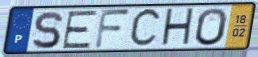C: (127, 6, 163, 50)
E: (60, 9, 99, 50)
F: (93, 8, 132, 51)
H: (159, 7, 196, 49)
O: (194, 6, 229, 47)
S: (31, 10, 64, 50)
